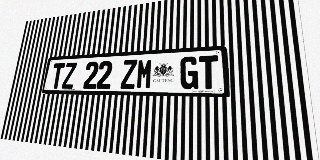2: (96, 60, 113, 89), (83, 61, 99, 89)
G: (180, 56, 198, 89)
M: (136, 58, 153, 89)
T: (199, 55, 219, 89), (50, 63, 65, 89)
Z: (120, 59, 137, 89), (61, 62, 77, 89)
